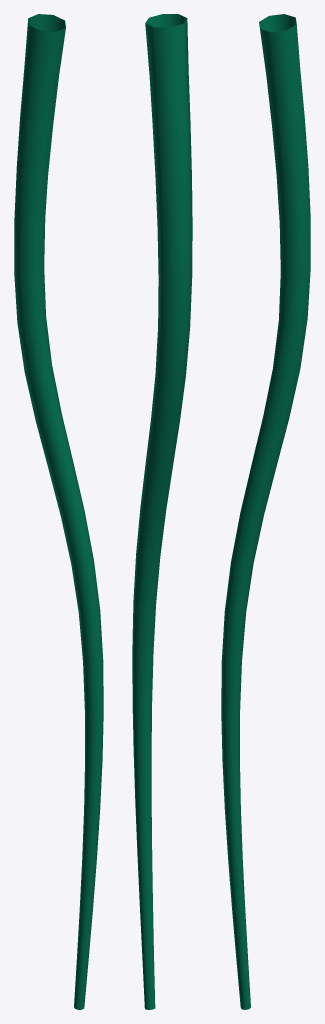
Rendered from NormalVine_01.fbx.
3 renders of one model, left to right at view 1: azimuth 90°, elevation 25°; view 2: azimuth 210°, elevation 25°; view 3: azimuth 270°, elevation 25°, orthographic.
Visible parts, largest first — view 1: normalVineversion02_01; view 2: normalVineversion02_01; view 3: normalVineversion02_01.
Boxes of the visible parts, bbox=[...] form: normalVineversion02_01: bbox=[14, 14, 103, 1009]; normalVineversion02_01: bbox=[132, 14, 192, 1009]; normalVineversion02_01: bbox=[221, 14, 310, 1009].
Size of the model in its own units: 0.4569 by 12.25 by 1.01.
